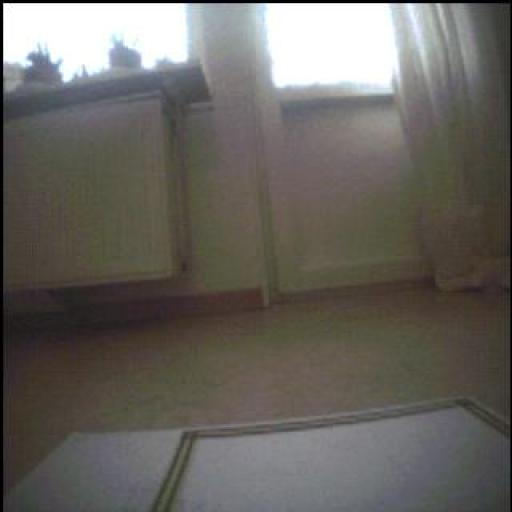Pad: (5, 397, 501, 512)
